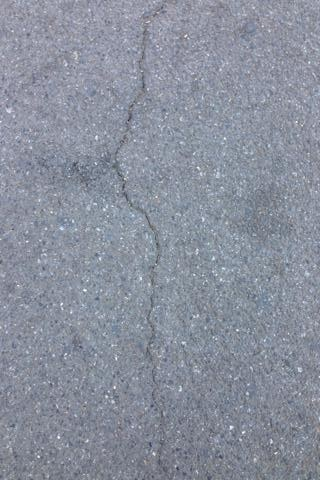A: (110, 5, 188, 480)
